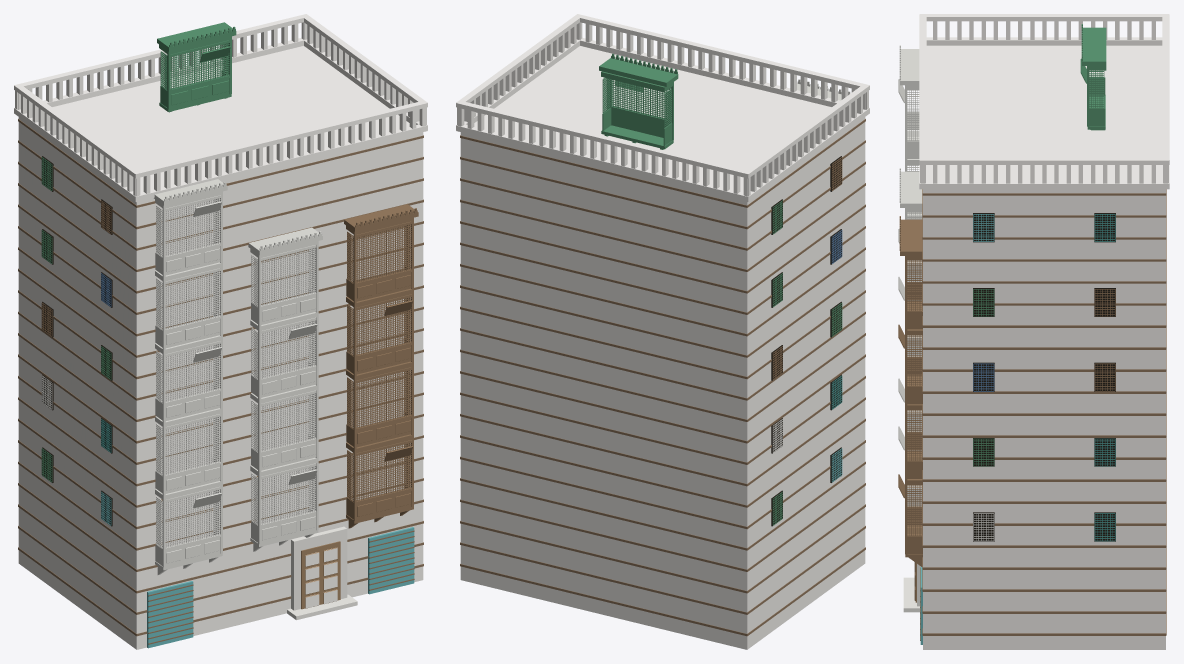
The model's file is SM_HijaziHouse_05.fbx.
3 views of the same model, side by side, from view 1: azimuth 30°, elevation 25°; view 2: azimuth 150°, elevation 25°; view 3: azimuth 270°, elevation 25° (orthographic). The views are drawn at different scales.
Parts seen in each view (by area): view 1: SM_HijaziHouse_05; view 2: SM_HijaziHouse_05; view 3: SM_HijaziHouse_05.
Part boxes in pixels (bbox=[...]): SM_HijaziHouse_05: bbox=[14, 14, 427, 649]; SM_HijaziHouse_05: bbox=[456, 14, 869, 649]; SM_HijaziHouse_05: bbox=[898, 14, 1169, 649].
Bounding box in the file's own units: 1430 × 2444 × 1116.
